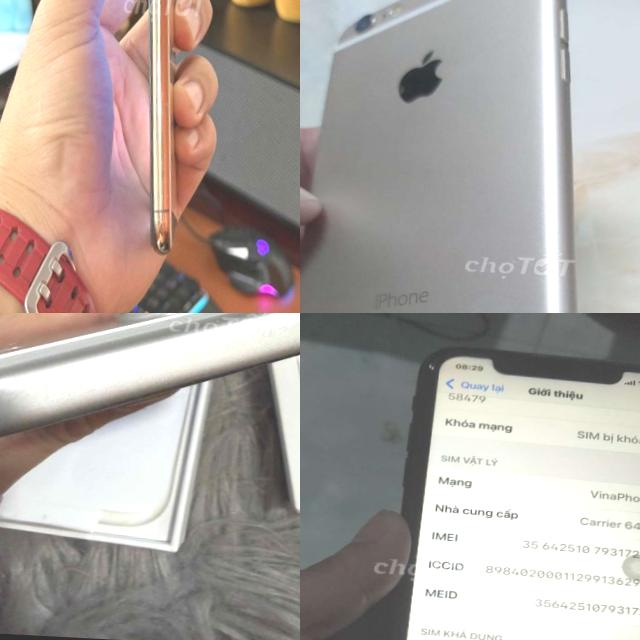gen_17: (0, 313, 300, 437), (0, 313, 300, 436)
gen_6: (300, 0, 627, 313)
gen_x_xs: (372, 348, 640, 640), (116, 0, 204, 264)
